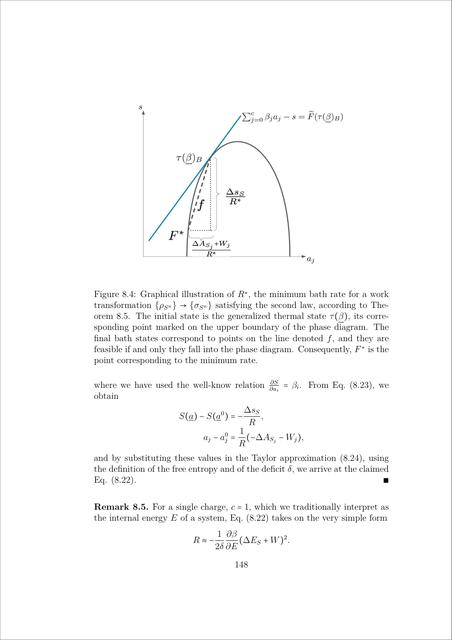box: (138, 100, 348, 266)
